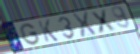3: (56, 16, 76, 40)
9: (112, 6, 133, 32)
G: (19, 22, 42, 46)
K: (37, 19, 60, 43)
X: (71, 11, 99, 39), (89, 8, 118, 34)
